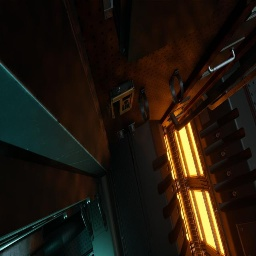EmergencyPhone ,: (106, 78, 134, 123)
